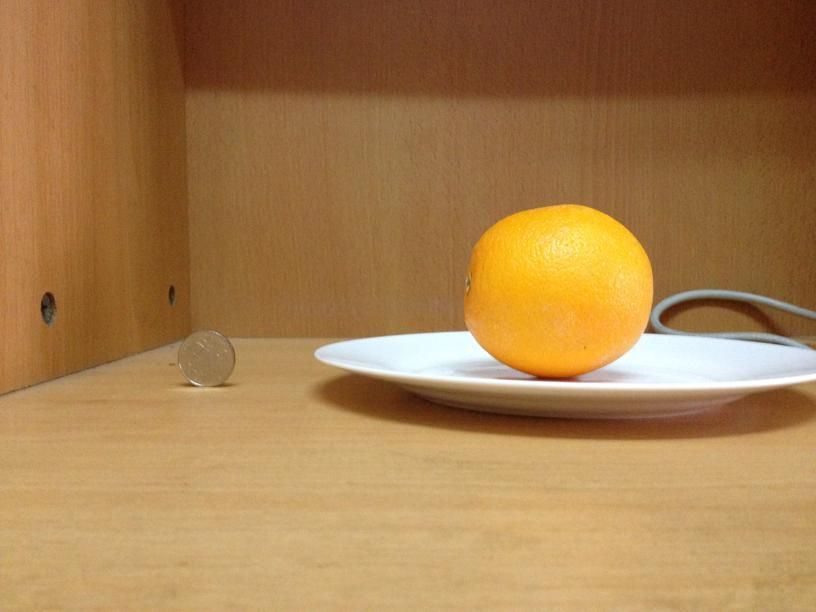coin: (176, 329, 236, 387)
orange: (460, 201, 654, 376)
